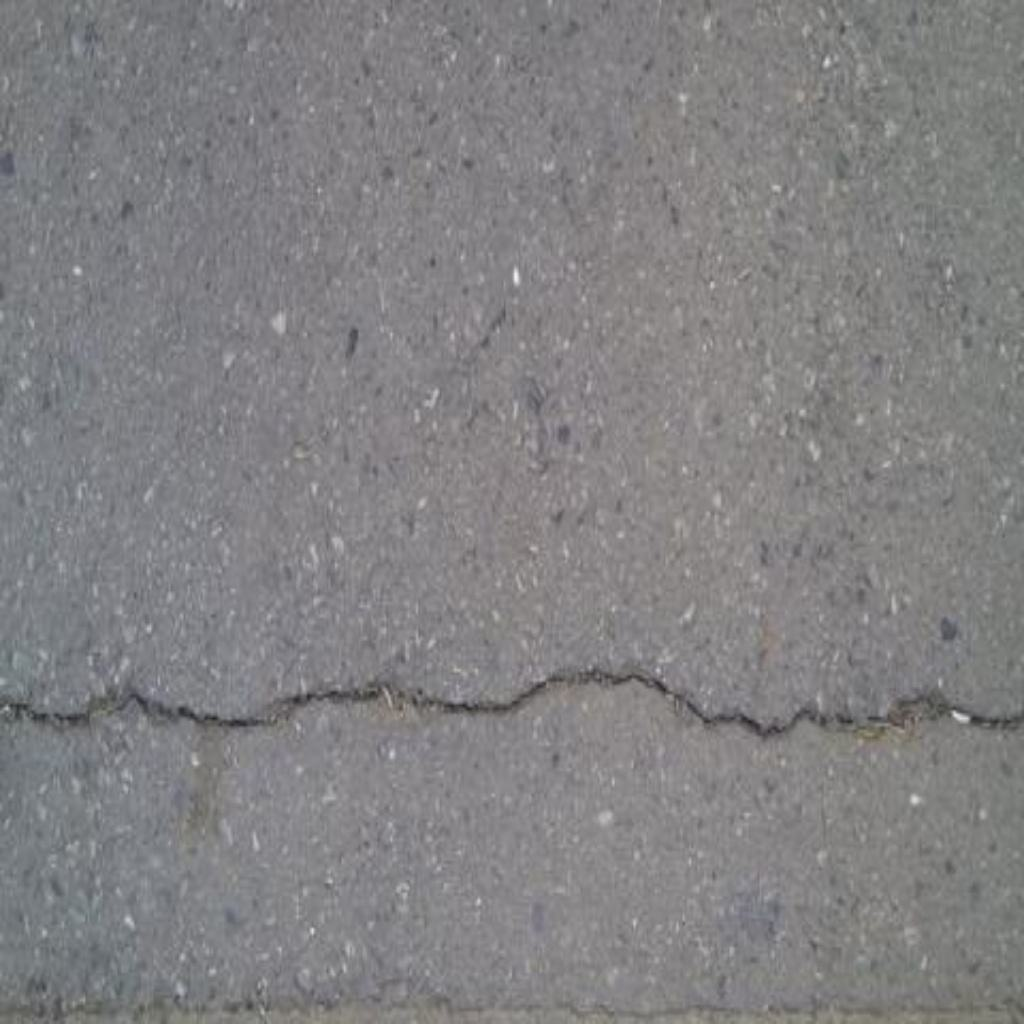Crack: (1, 660, 1024, 742)
